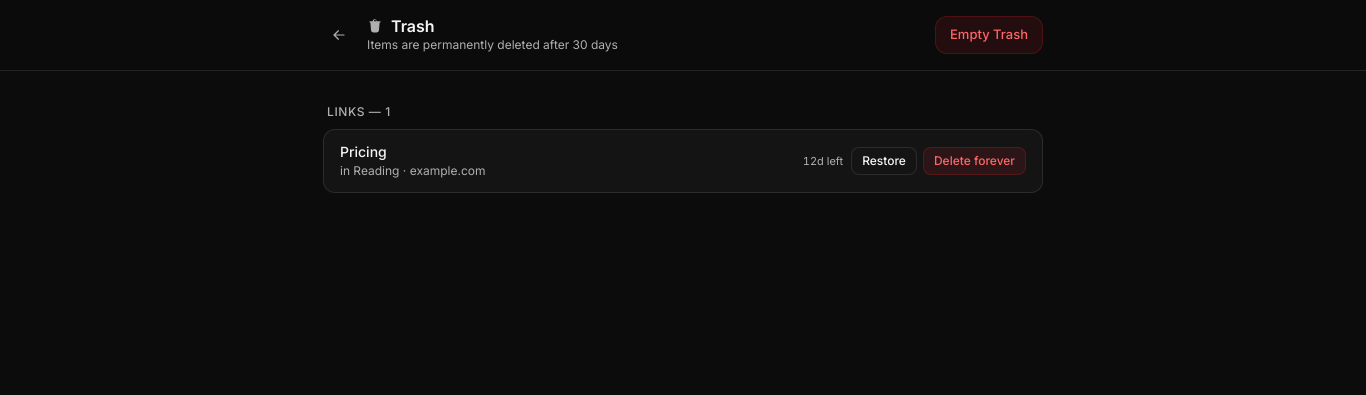
Test: Trash load errors › ignores a second restore while the first is still running
Expected: the text "Pricing" is shown, x1=340 y1=143 x2=387 y2=160
Click the button "Restore ".
click(884, 161)  # box x1=851 y1=147 x2=917 y2=175
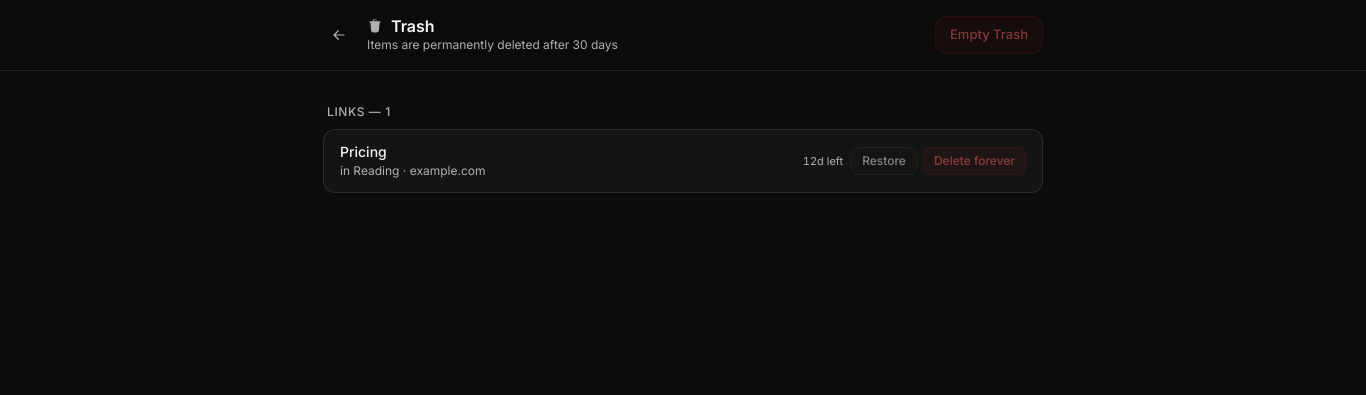
Click the button "Restore ".
click(884, 161)  # box x1=851 y1=147 x2=917 y2=175
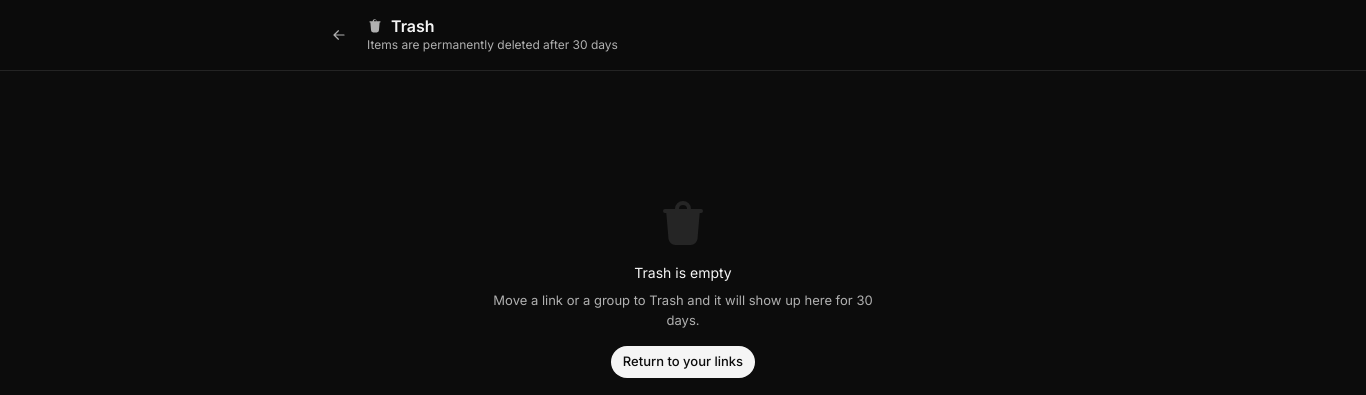
Expected: the text "Pricing" is gone
